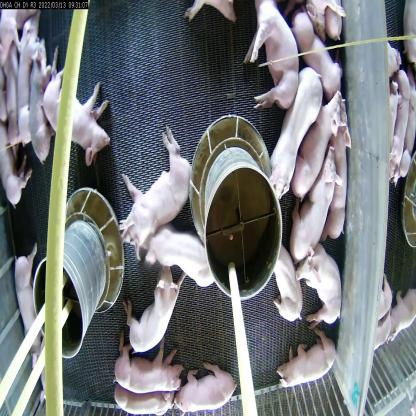Pig: (118, 119, 196, 249), (45, 46, 112, 160), (291, 2, 352, 118), (270, 66, 319, 190), (292, 143, 337, 277), (124, 256, 184, 354), (148, 221, 221, 300), (298, 234, 348, 340), (253, 0, 300, 111), (269, 326, 348, 390), (27, 34, 58, 163), (115, 340, 183, 392), (175, 368, 241, 415), (392, 67, 413, 179)
